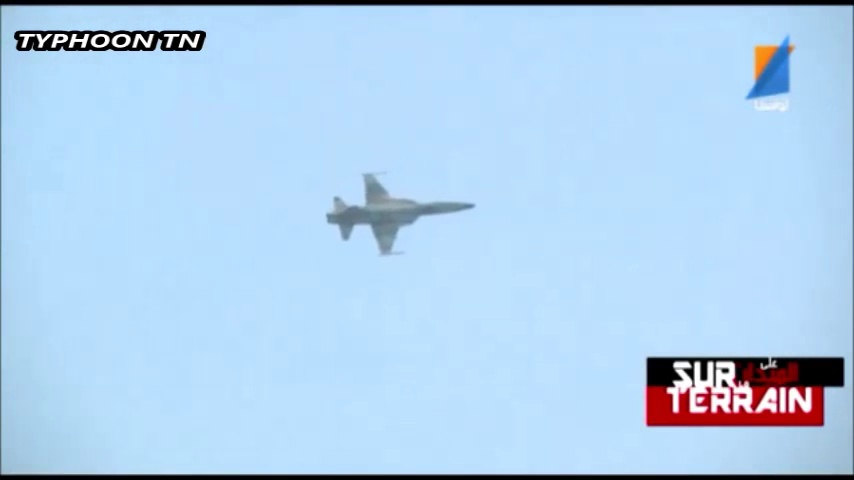Airplane: (322, 168, 476, 257)
